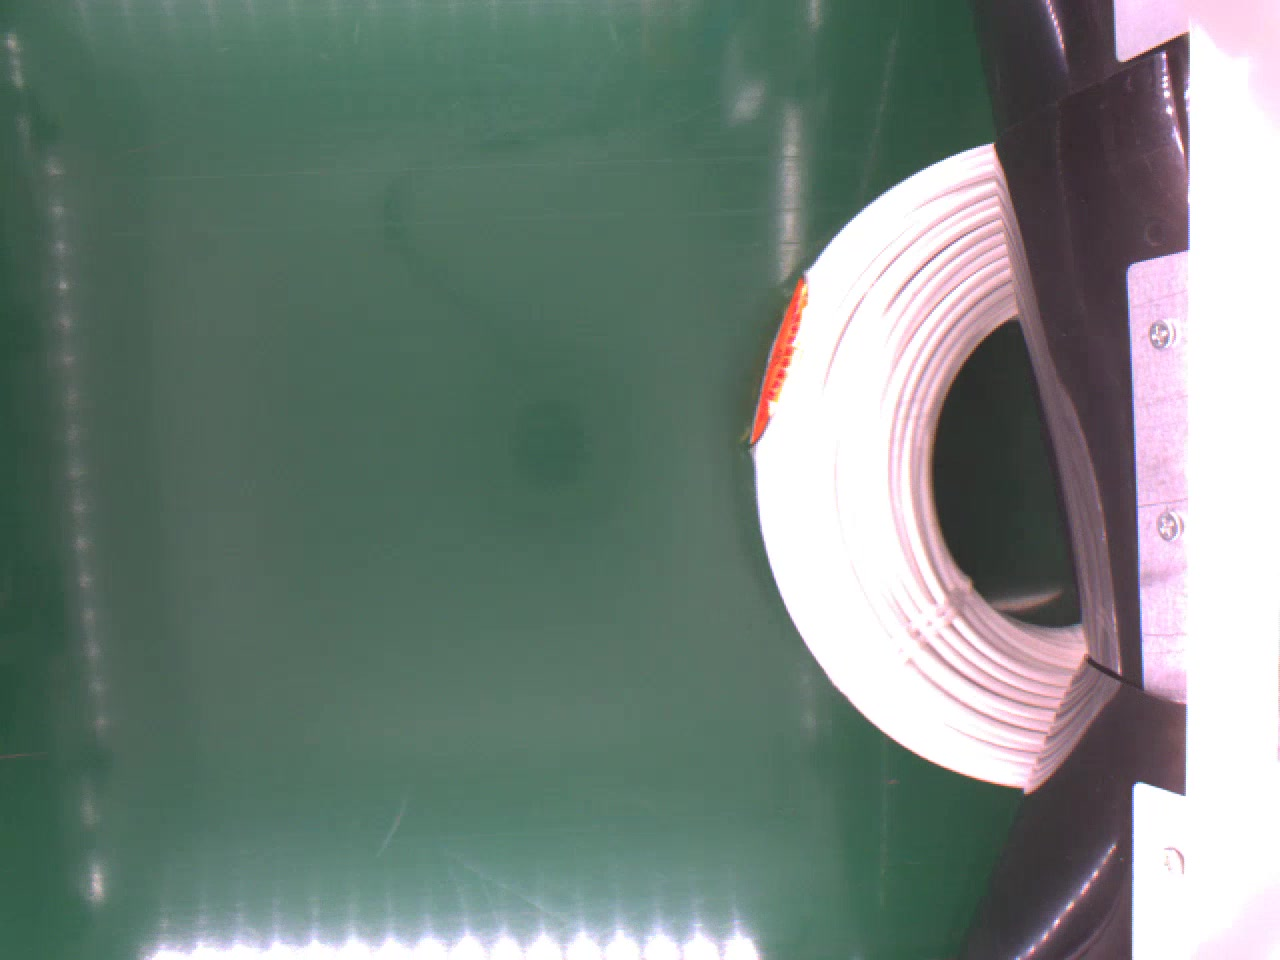white: (747, 144, 1089, 784)
